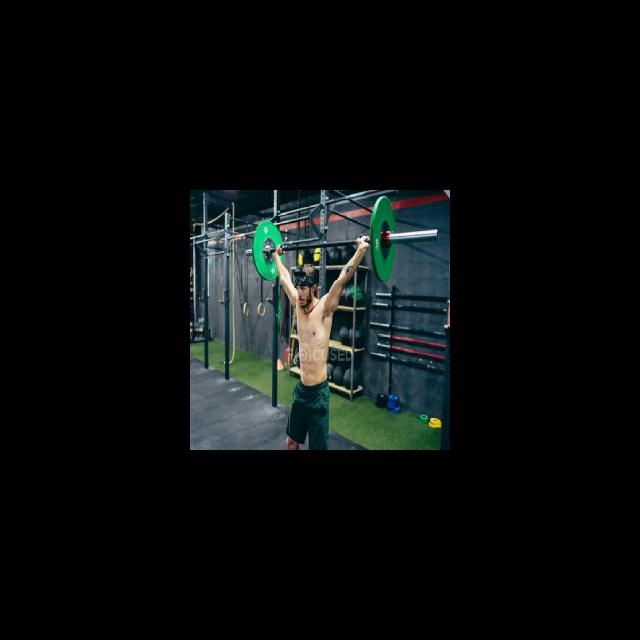barbell: (365, 192, 402, 284)
